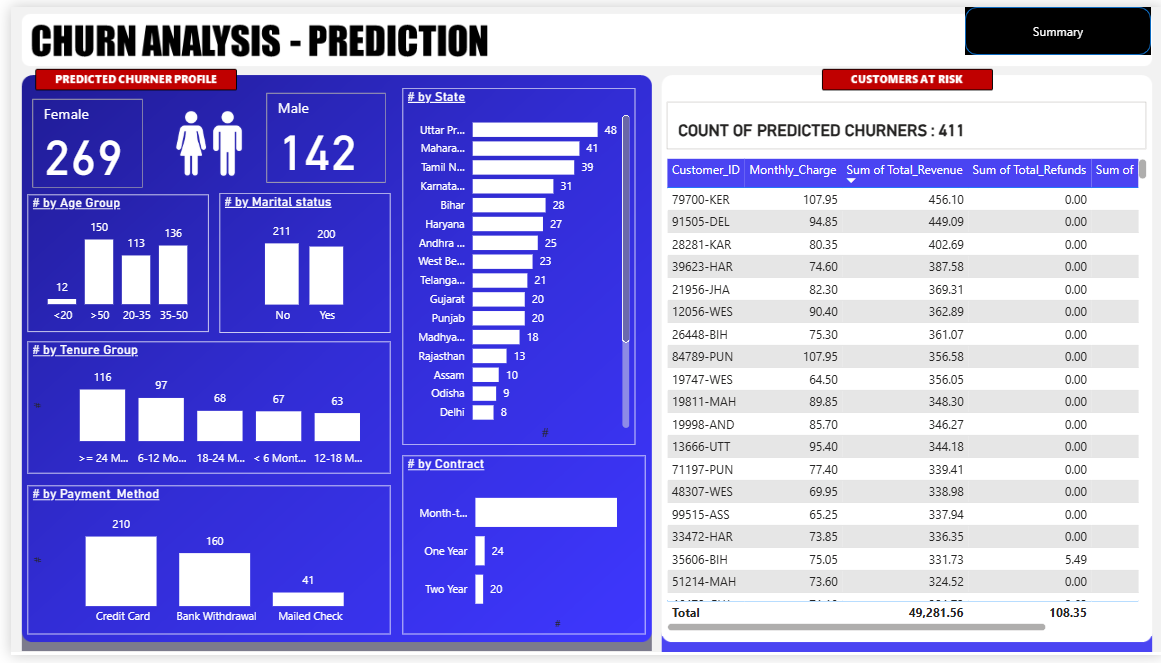

The page's visual inventory and layout, read from the dashboard file:
{"tool":"powerbi","page":{"name":"Churn Prediction","canvas":[1280,720],"ordinal":2},"visuals":[{"type":"tableEx","fields":{"Values":["Predictions.Customer_ID","Predictions.Monthly_Charge","Sum(Predictions.Total_Revenue)","Sum(Predictions.Total_Refunds)","Sum(Predictions.Number_of_Referrals)"]},"box":[723.3,163.3,543.3,535],"z":0},{"type":"cardVisual","fields":{"Data":["tbl_Measures.Count Predicted Churner"]},"box":[18.3,90,135,110],"z":1000},{"type":"cardVisual","fields":{"Data":["tbl_Measures.Title Predicted Churners"]},"box":[723.3,100,543.3,63.3],"z":2000},{"type":"cardVisual","fields":{"Data":["tbl_Measures.Count Predicted Churner"]},"box":[278.3,90,143.3,110],"z":3000},{"type":"clusteredColumnChart","fields":{"Category":["mapping_AgeGrp.Age Group"],"Y":["CountNonNull(Predictions.Customer_ID)"]},"box":[18.6,208.6,201.4,152.9],"z":4000},{"type":"clusteredColumnChart","fields":{"Category":["Predictions.Married"],"Y":["CountNonNull(Predictions.Customer_ID)"]},"box":[231.7,206.7,190,155],"z":5000},{"type":"clusteredColumnChart","fields":{"Category":["mapping_TenureGrp.Tenure Group"],"Y":["CountNonNull(Predictions.Customer_ID)"]},"box":[18.3,371.7,403.3,146.7],"z":6000},{"type":"clusteredColumnChart","fields":{"Category":["Predictions.Payment_Method"],"Y":["CountNonNull(Predictions.Customer_ID)"]},"box":[18.3,531.7,403.3,165],"z":7000},{"type":"clusteredBarChart","fields":{"Category":["Predictions.Contract"],"Y":["CountNonNull(Predictions.Customer_ID)"]},"box":[434.3,498.6,270,198.6],"z":8000},{"type":"clusteredBarChart","fields":{"Category":["Predictions.State"],"Y":["CountNonNull(Predictions.Customer_ID)"]},"box":[435,90,258.3,396.7],"z":9000},{"type":"image","box":[161.7,100,116.7,101.7],"z":10000},{"type":"shape","box":[1060,0,206.7,53.3],"z":10001}]}

Visuals, with their boxes in screenshot pixels (x1, y1, x2, y2), scaled from the page's 1280x720 canvas onto the 1161x663 screenshot:
tableEx - Predictions.Customer_ID x Predictions.Monthly_Charge: [656, 150, 1149, 643]
cardVisual - tbl_Measures.Count Predicted Churner: [17, 83, 139, 184]
cardVisual - tbl_Measures.Title Predicted Churners: [656, 92, 1149, 150]
cardVisual - tbl_Measures.Count Predicted Churner: [252, 83, 382, 184]
clusteredColumnChart - mapping_AgeGrp.Age Group x CountNonNull(Predictions.Customer_ID): [17, 192, 200, 333]
clusteredColumnChart - Predictions.Married x CountNonNull(Predictions.Customer_ID): [210, 190, 382, 333]
clusteredColumnChart - mapping_TenureGrp.Tenure Group x CountNonNull(Predictions.Customer_ID): [17, 342, 382, 477]
clusteredColumnChart - Predictions.Payment_Method x CountNonNull(Predictions.Customer_ID): [17, 490, 382, 642]
clusteredBarChart - Predictions.Contract x CountNonNull(Predictions.Customer_ID): [394, 459, 639, 642]
clusteredBarChart - Predictions.State x CountNonNull(Predictions.Customer_ID): [395, 83, 629, 448]
image: [147, 92, 253, 186]
shape: [961, 0, 1149, 49]
